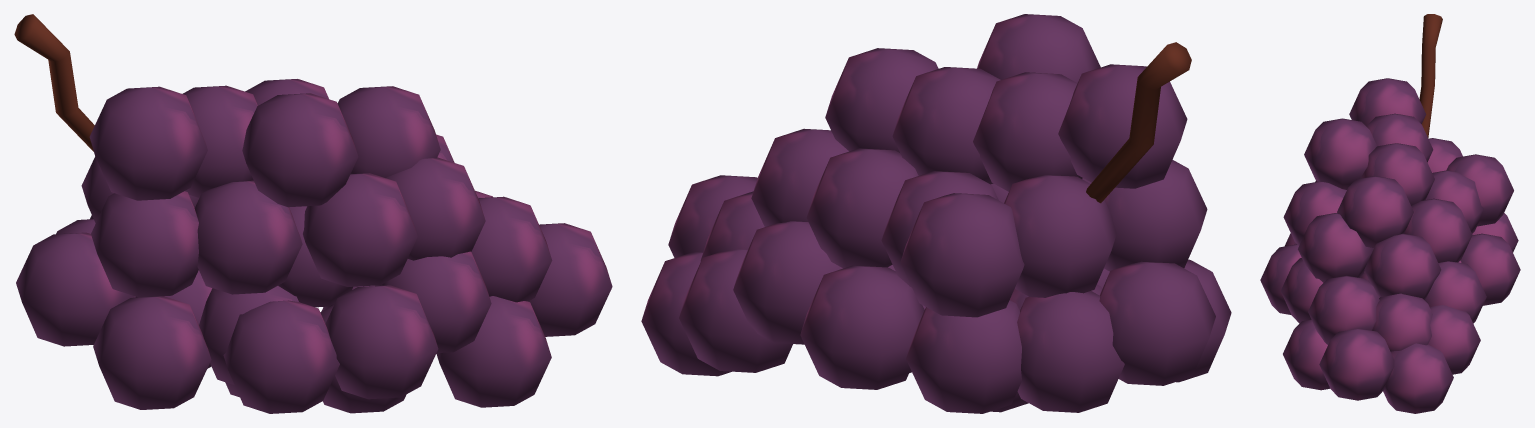
The model's file is grapes.fbx.
3 renders of one model, left to right at view 1: azimuth 30°, elevation 25°; view 2: azimuth 150°, elevation 25°; view 3: azimuth 270°, elevation 25°, orthographic. The views are drawn at different scales.
Parts seen in each view (by area): view 1: Cylinder; view 2: Cylinder; view 3: Cylinder.
Boxes of the visible parts, bbox=[...] form: Cylinder: bbox=[14, 14, 612, 413]; Cylinder: bbox=[641, 14, 1231, 413]; Cylinder: bbox=[1260, 14, 1520, 413].
Bounding box in the file's own units: 158 × 118 × 105.
Materials: 1 (1 with a texture image).
